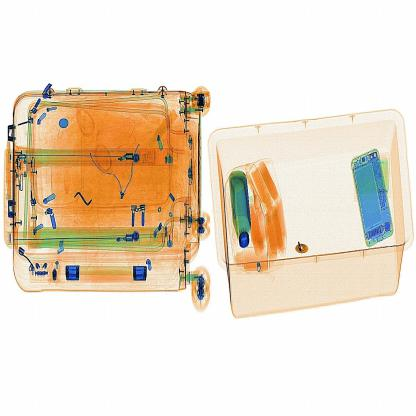wrench: (291, 240, 318, 260)
